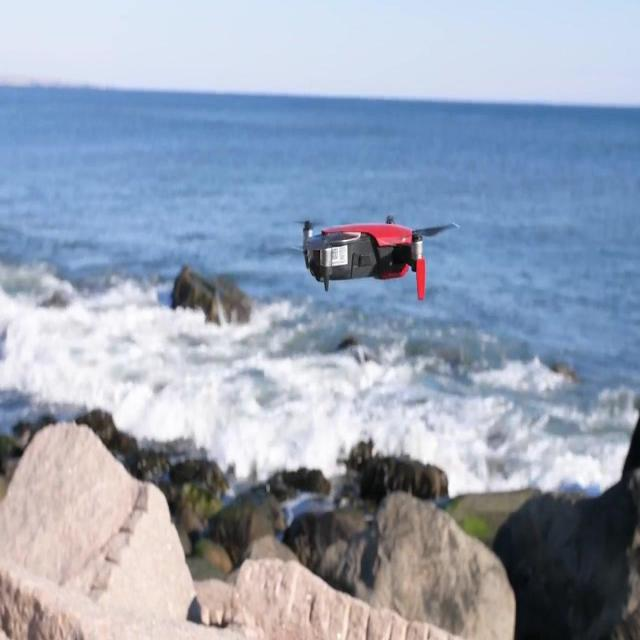UAV: (294, 215, 460, 302)
